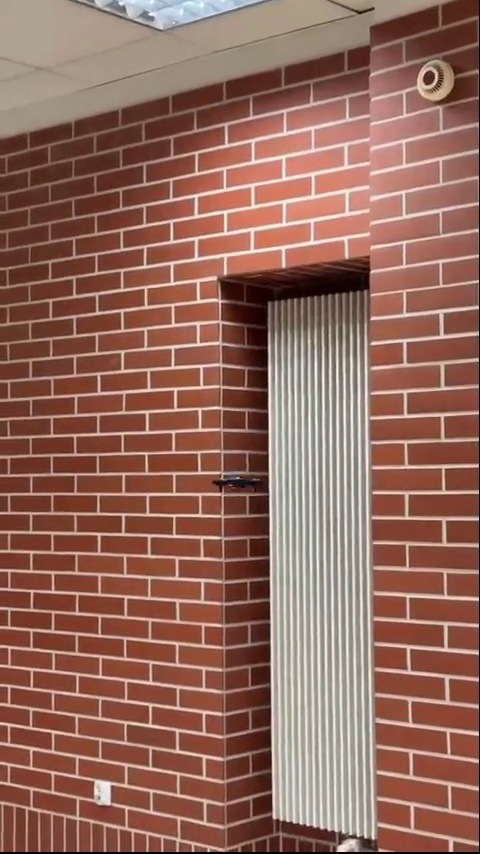drone: (210, 474, 266, 501)
